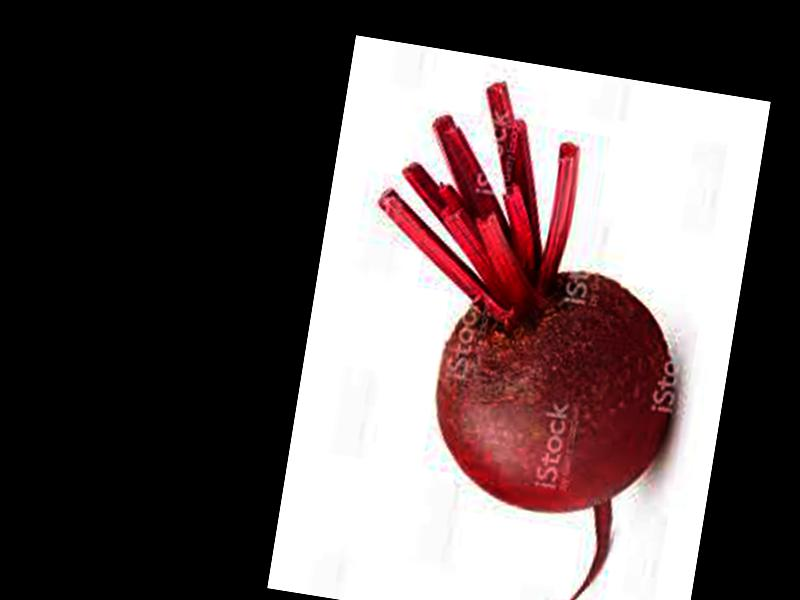Beet: (321, 67, 715, 600)
